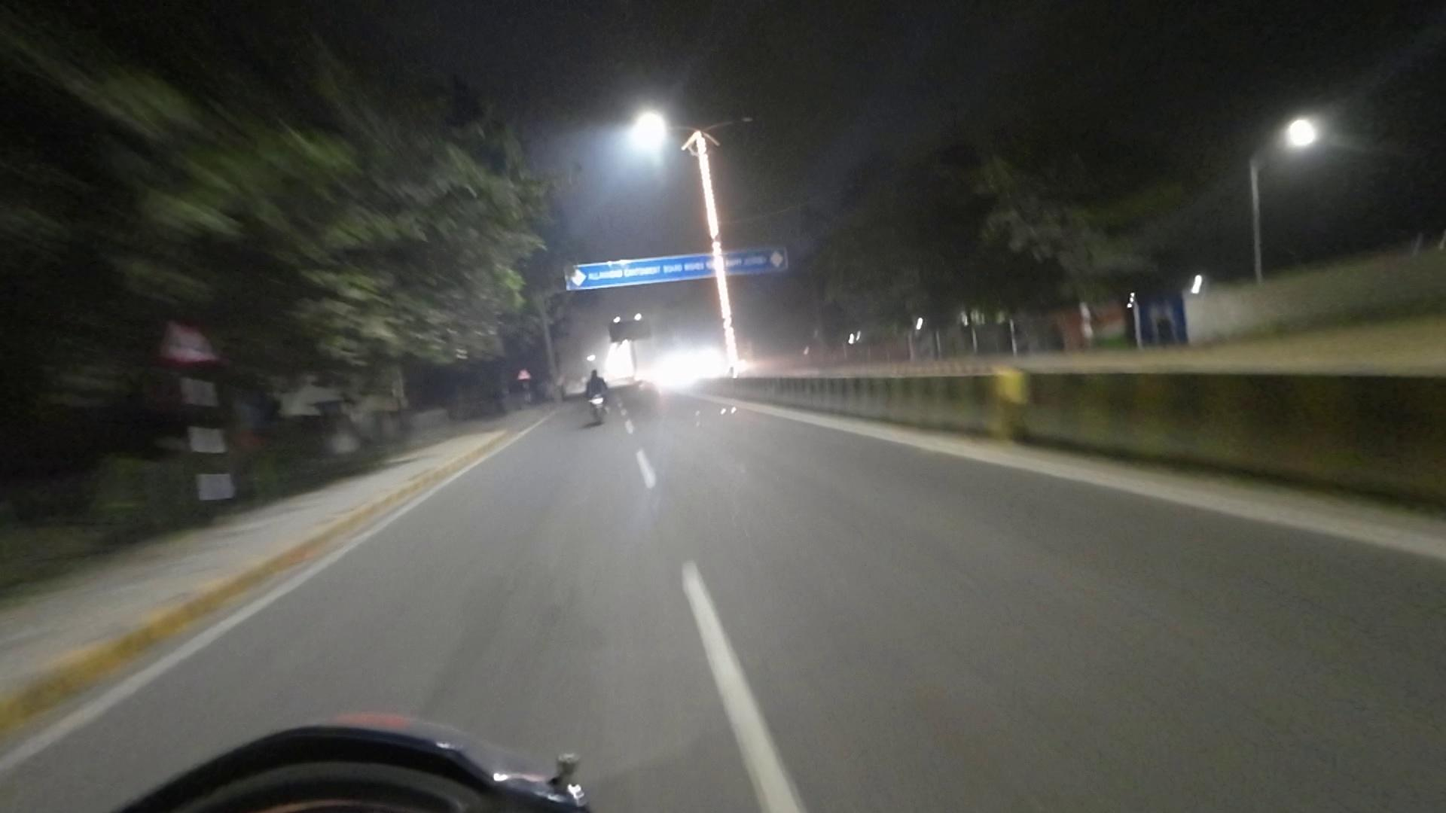streetlight: (710, 110, 757, 133)
